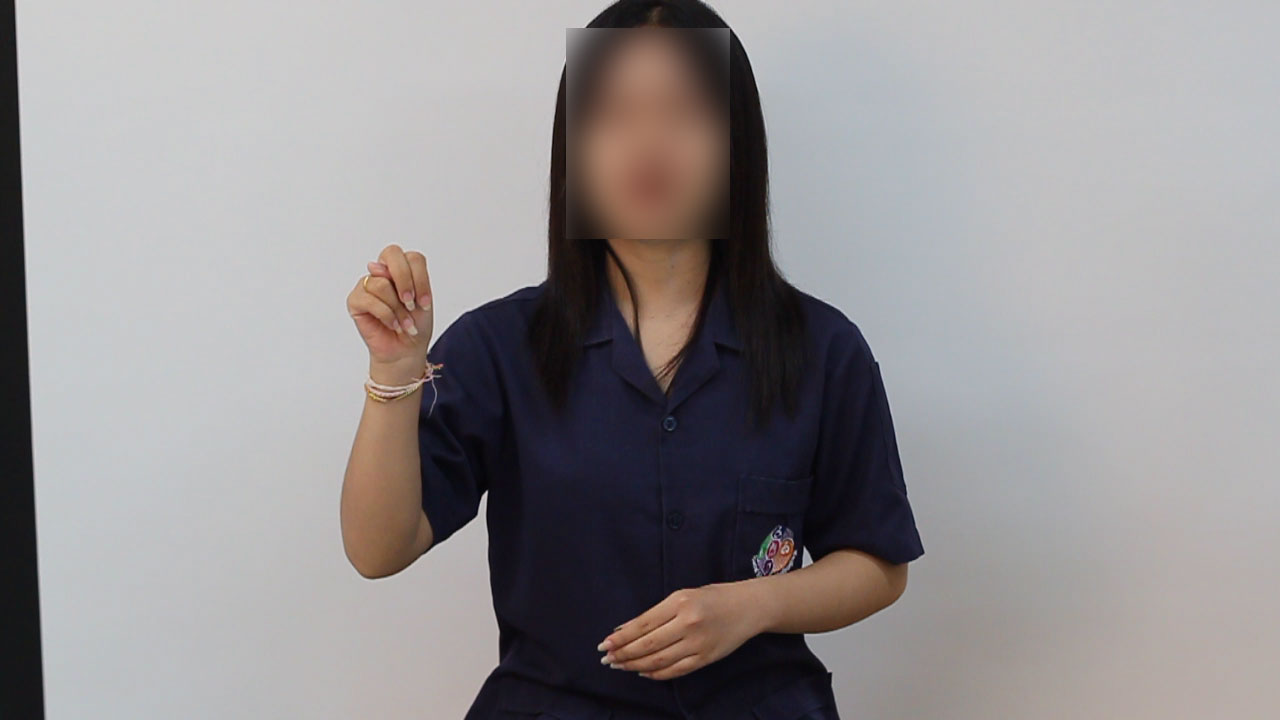nor: (342, 234, 445, 373)
